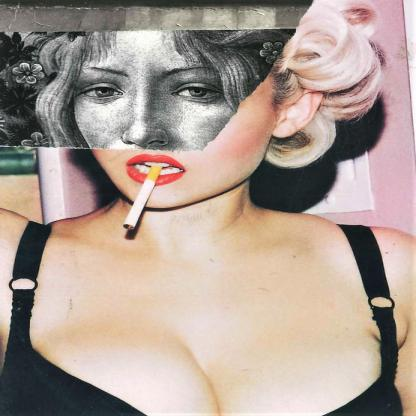smoking: (124, 165, 162, 230)
